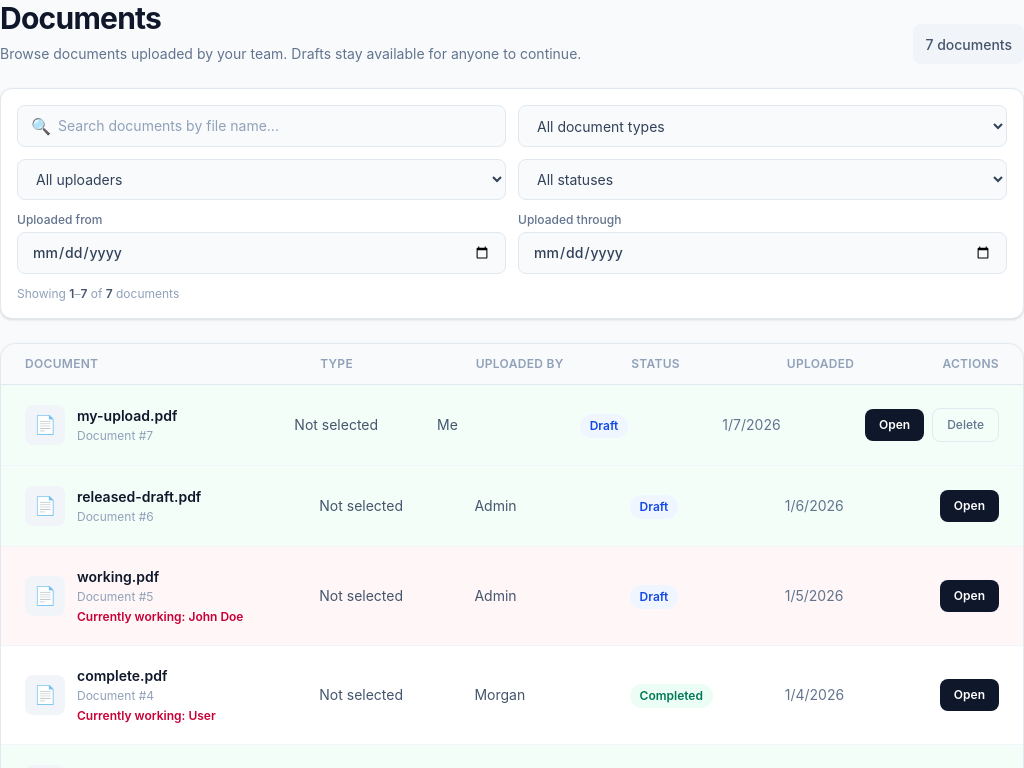
Test: DocumentList status filter › colors every unoccupied document green and every actively worked document red
The width and height of the screenshot is (1024, 768).
Check: the element that starts with "working.pdf" shows "Currently working: John Doe", box [1,547,1023,646]
Select "Morgan" in the dropdown named "Filter documents by uploader": [262, 180] box [17,159,506,200]
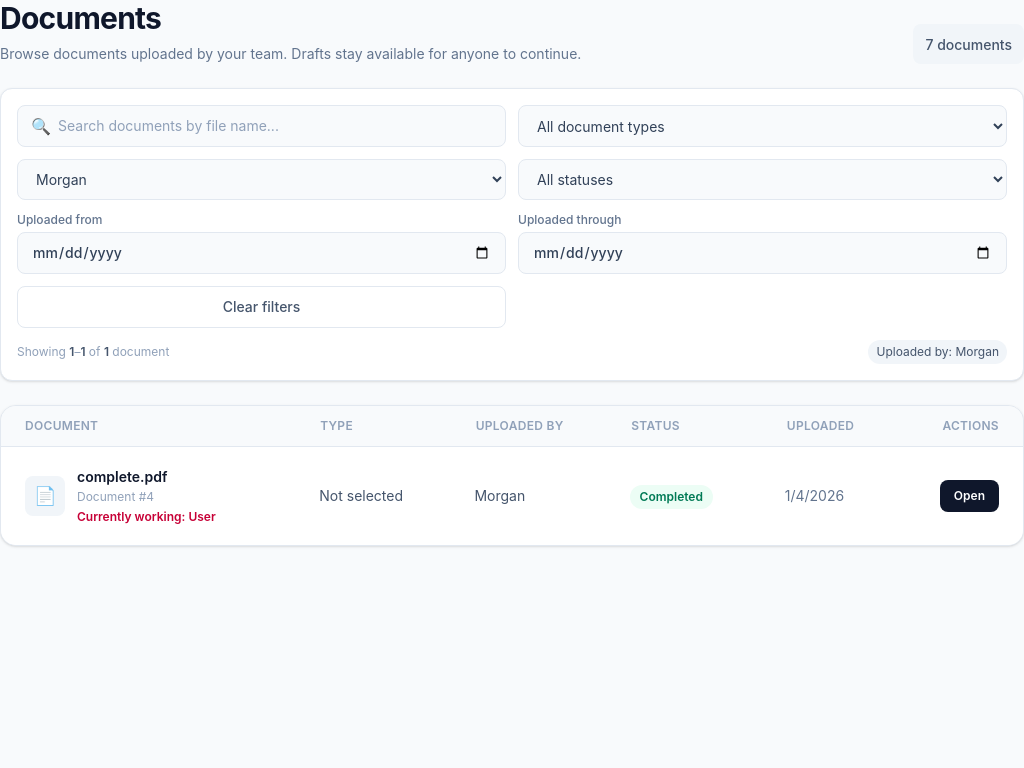
Check: the number of headings "complete.pdf" is 2
Check: the heading "working.pdf" is gone
Click the button "Clear filters": [262, 307] box [17,286,506,328]
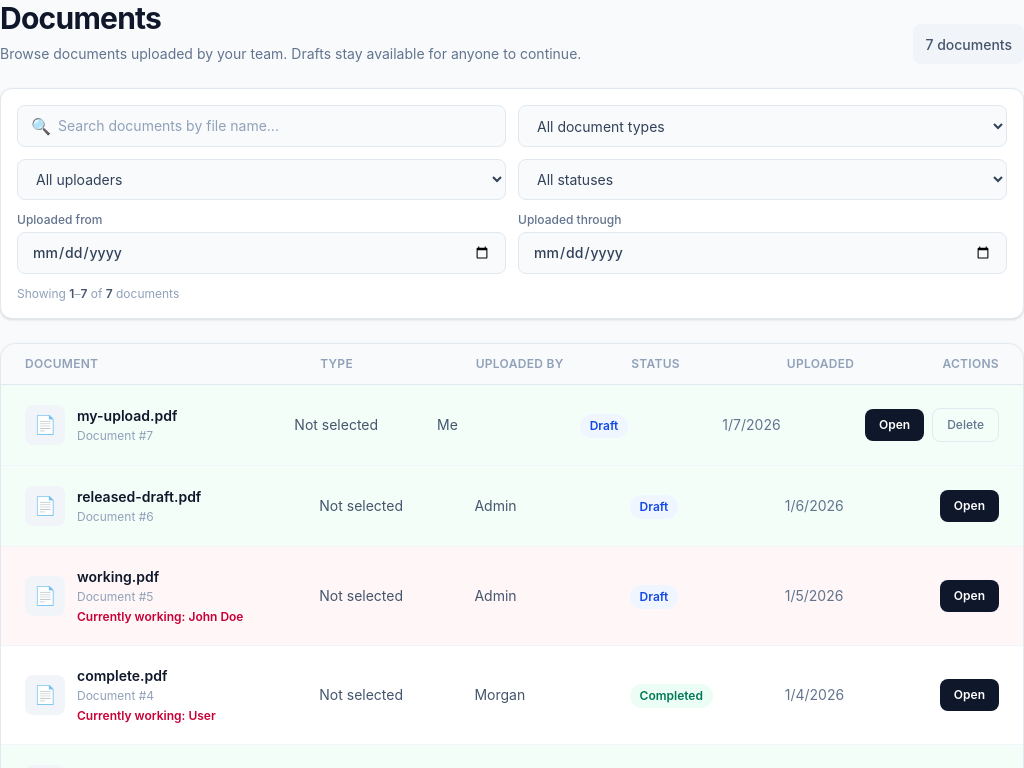
Check: the number of headings "working.pdf" is 2
